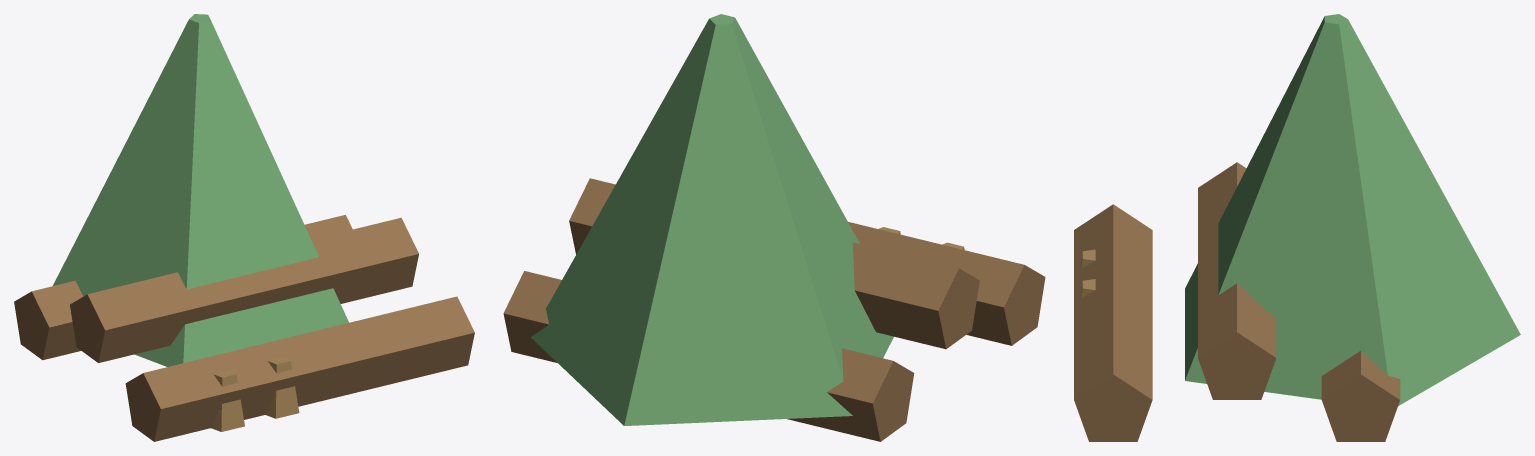
Rendered from north_pine_stand.lod1.glb.
3 views of the same model, side by side, from view 1: azimuth 30°, elevation 25°; view 2: azimuth 150°, elevation 25°; view 3: azimuth 270°, elevation 25° (orthographic). The views are drawn at different scales.
Size of the model in its own units: 1.56 by 1.45 by 1.73.
